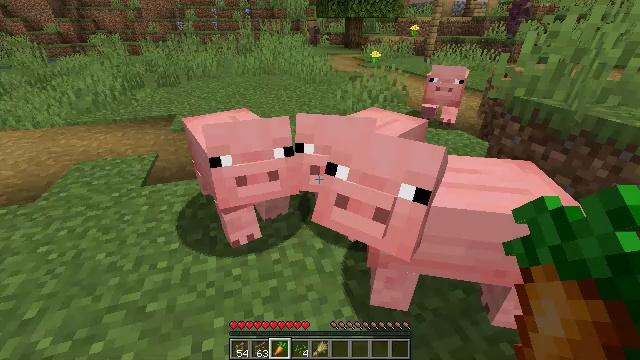pig: (323, 127, 583, 315), (181, 108, 295, 243), (295, 107, 433, 189), (419, 66, 470, 121)
